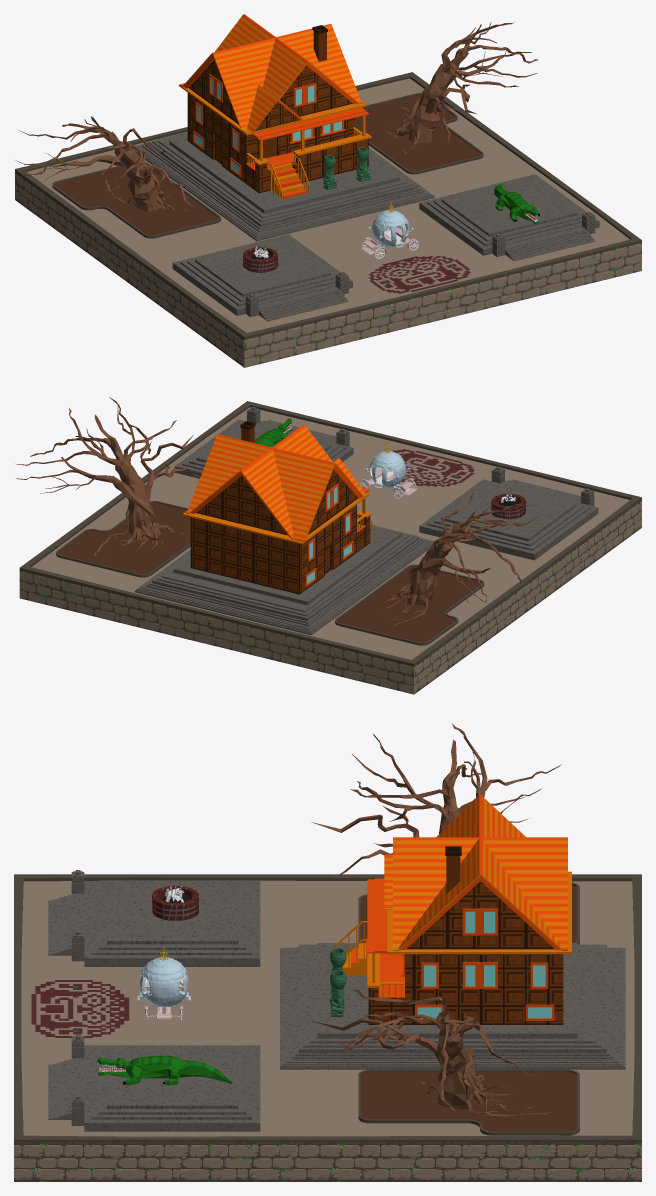
3 views of the same model, one above another, from view 1: azimuth 30°, elevation 25°; view 2: azimuth 150°, elevation 25°; view 3: azimuth 270°, elevation 25° (orthographic). The views are drawn at different scales.
Parts seen in each view (by area): view 1: Cube.011, Cube, VEHICLES_FANTASY_CARRIAGE, ANIMAL_COCODRILO, OBJRANDOM_CAMPFIRE; view 2: Cube.011, Cube, VEHICLES_FANTASY_CARRIAGE, OBJRANDOM_CAMPFIRE, ANIMAL_COCODRILO; view 3: Cube.011, Cube, ANIMAL_COCODRILO, VEHICLES_FANTASY_CARRIAGE, OBJRANDOM_CAMPFIRE.
Part boxes in pixels (x1,y1,x2,y2): Cube.011: (15, 22, 641, 367); Cube: (179, 14, 371, 199); VEHICLES_FANTASY_CARRIAGE: (361, 201, 418, 259); ANIMAL_COCODRILO: (494, 183, 539, 224); OBJRANDOM_CAMPFIRE: (243, 245, 278, 272); Cube.011: (14, 397, 641, 694); Cube: (182, 421, 372, 594); VEHICLES_FANTASY_CARRIAGE: (359, 441, 416, 499); OBJRANDOM_CAMPFIRE: (491, 493, 525, 519); ANIMAL_COCODRILO: (254, 418, 291, 447); Cube.011: (14, 723, 641, 1181); Cube: (333, 795, 571, 1024); ANIMAL_COCODRILO: (97, 1055, 232, 1085); VEHICLES_FANTASY_CARRIAGE: (137, 945, 190, 1023); OBJRANDOM_CAMPFIRE: (152, 883, 198, 920).
Bounding box in the file's own units: 5099 × 1683 × 4000.
Materials: 30 (7 with a texture image).
